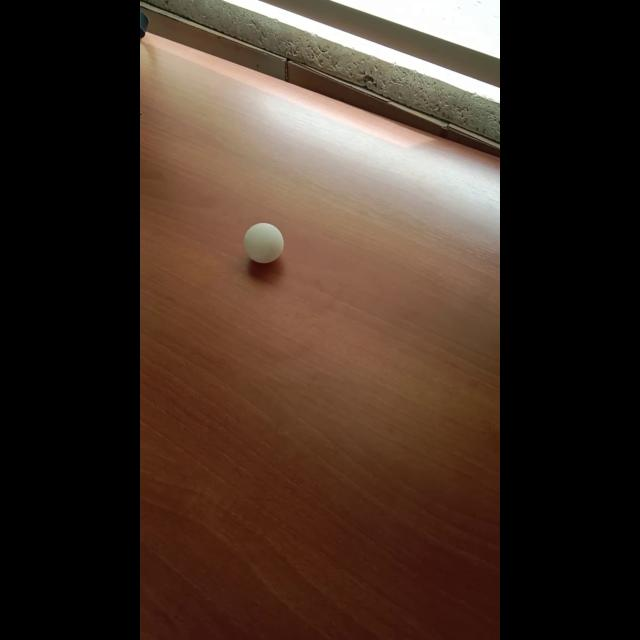white ball: (243, 222, 284, 264)
